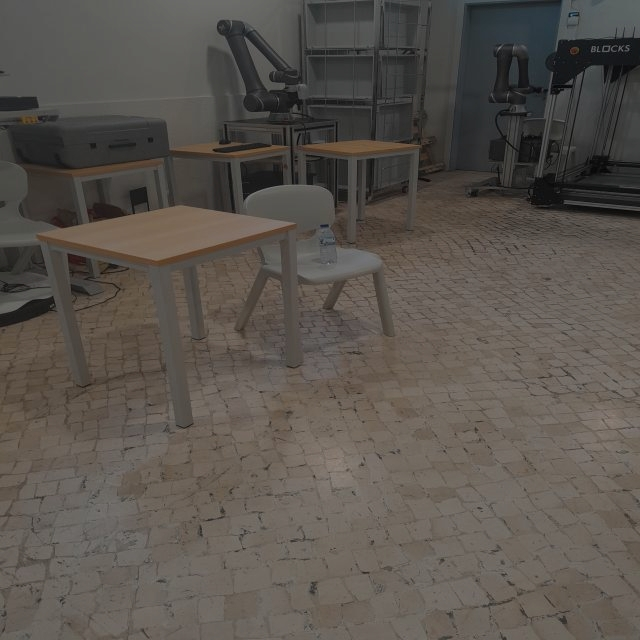Plastic-bottle: (316, 223, 339, 265)
